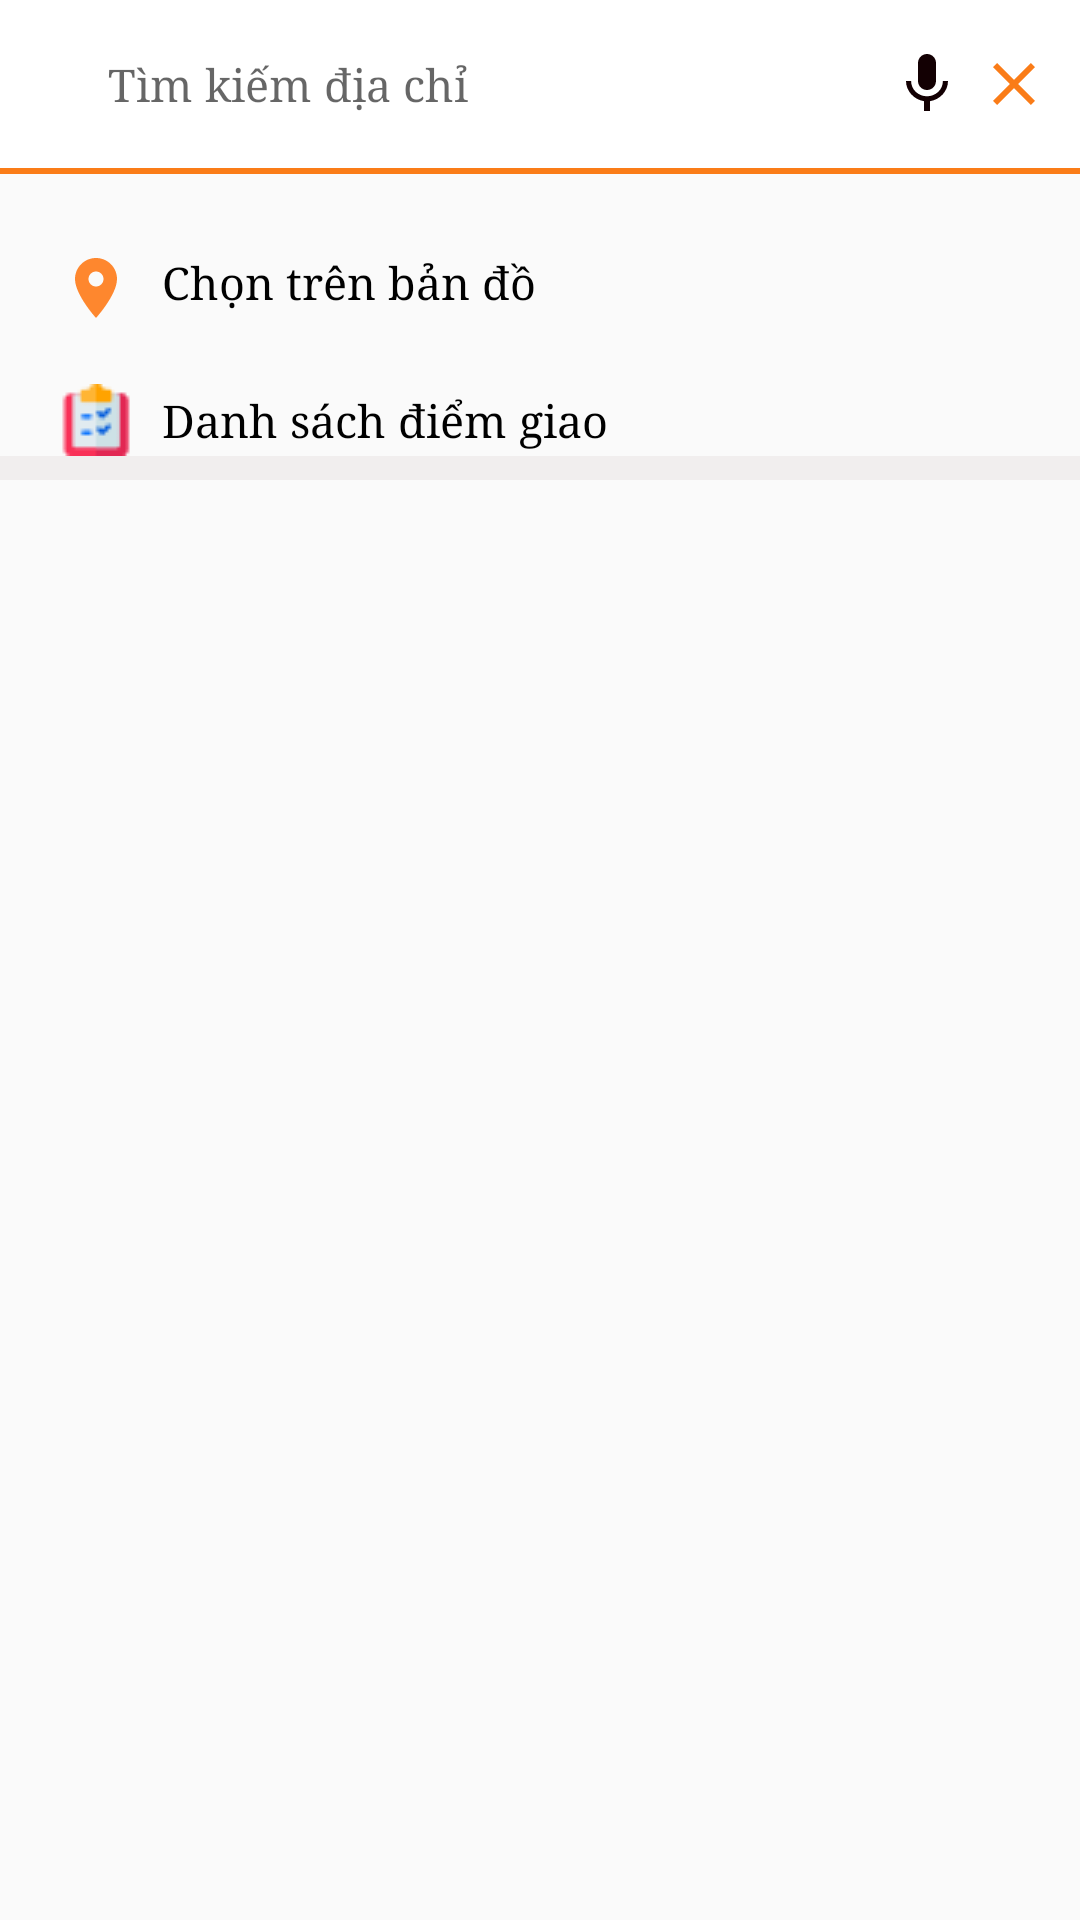

Where icons sit on this 1080 x 1920 app screen, as (x1, y1, x2, y2):
clear: (993, 63, 1035, 105)
list: (62, 384, 130, 456)
location: (75, 258, 117, 318)
mic: (906, 54, 948, 111)
